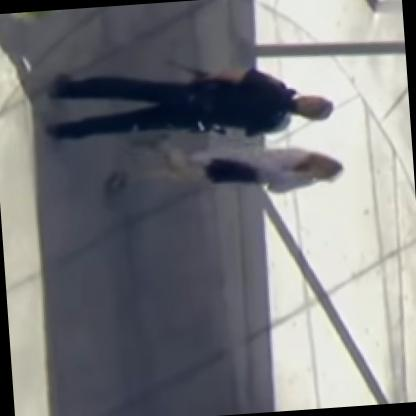Human Body: (42, 45, 340, 165), (98, 123, 351, 216)
